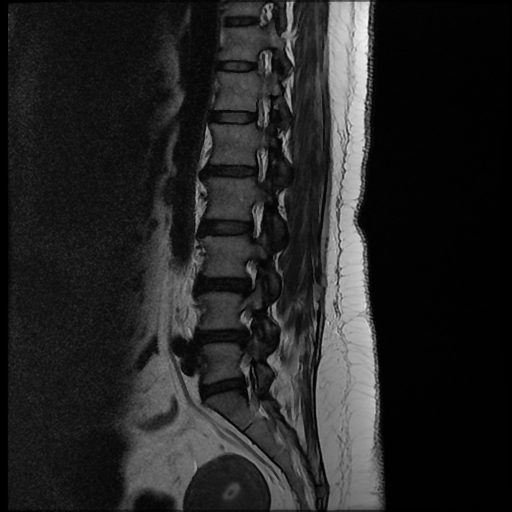LFS0: (237, 190, 273, 246), (230, 251, 268, 304), (243, 141, 276, 188)
